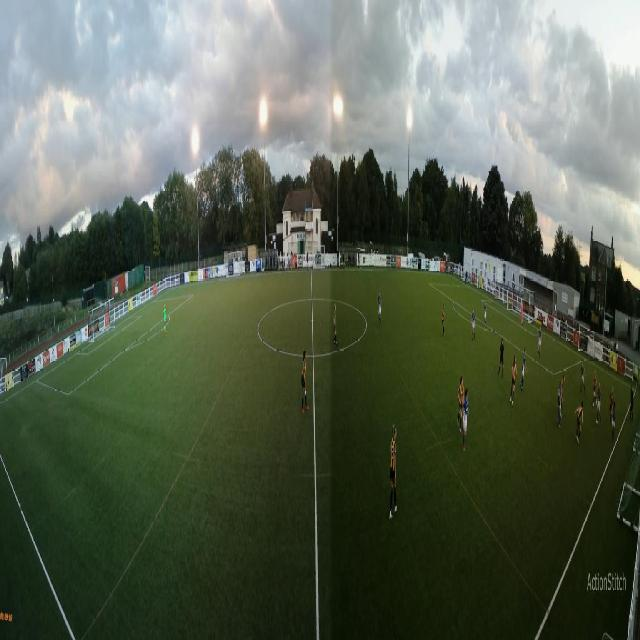ball: (596, 418, 599, 426)
player: (389, 424, 398, 521), (301, 350, 310, 414), (520, 347, 529, 392), (575, 401, 584, 446), (457, 376, 464, 433), (509, 355, 517, 404), (463, 388, 469, 449), (497, 338, 505, 379), (557, 381, 563, 430), (596, 383, 602, 423), (579, 362, 586, 396), (560, 373, 565, 420), (333, 303, 338, 347), (593, 369, 598, 408), (611, 402, 616, 441), (609, 387, 614, 426), (377, 290, 382, 327), (441, 302, 446, 339), (471, 307, 476, 344), (163, 305, 168, 337), (538, 326, 542, 362), (484, 299, 488, 331), (520, 303, 524, 328)
